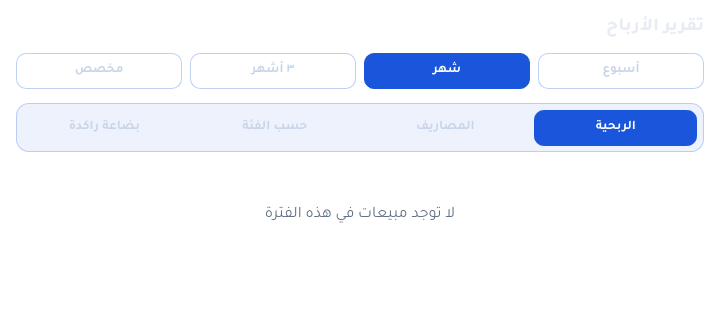
Test: ReportsPage › renders tabs and switches to expenses panel
Expected: the button with test id "tab-profitability" is shown, [534,110,697,146]
Click the button with test id "tab-expenses" at point(445, 128), box [364,110,527,146]
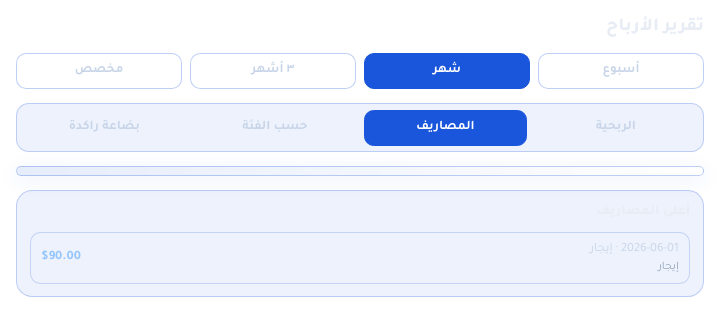
Expected: the element with test id "expenses-tab-panel" is shown, [16,166,704,298]
